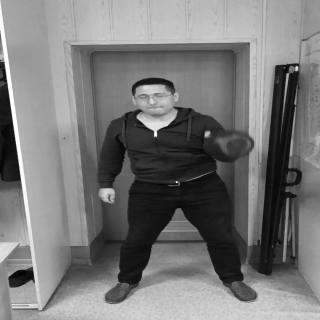kettlebell: (202, 130, 253, 158)
